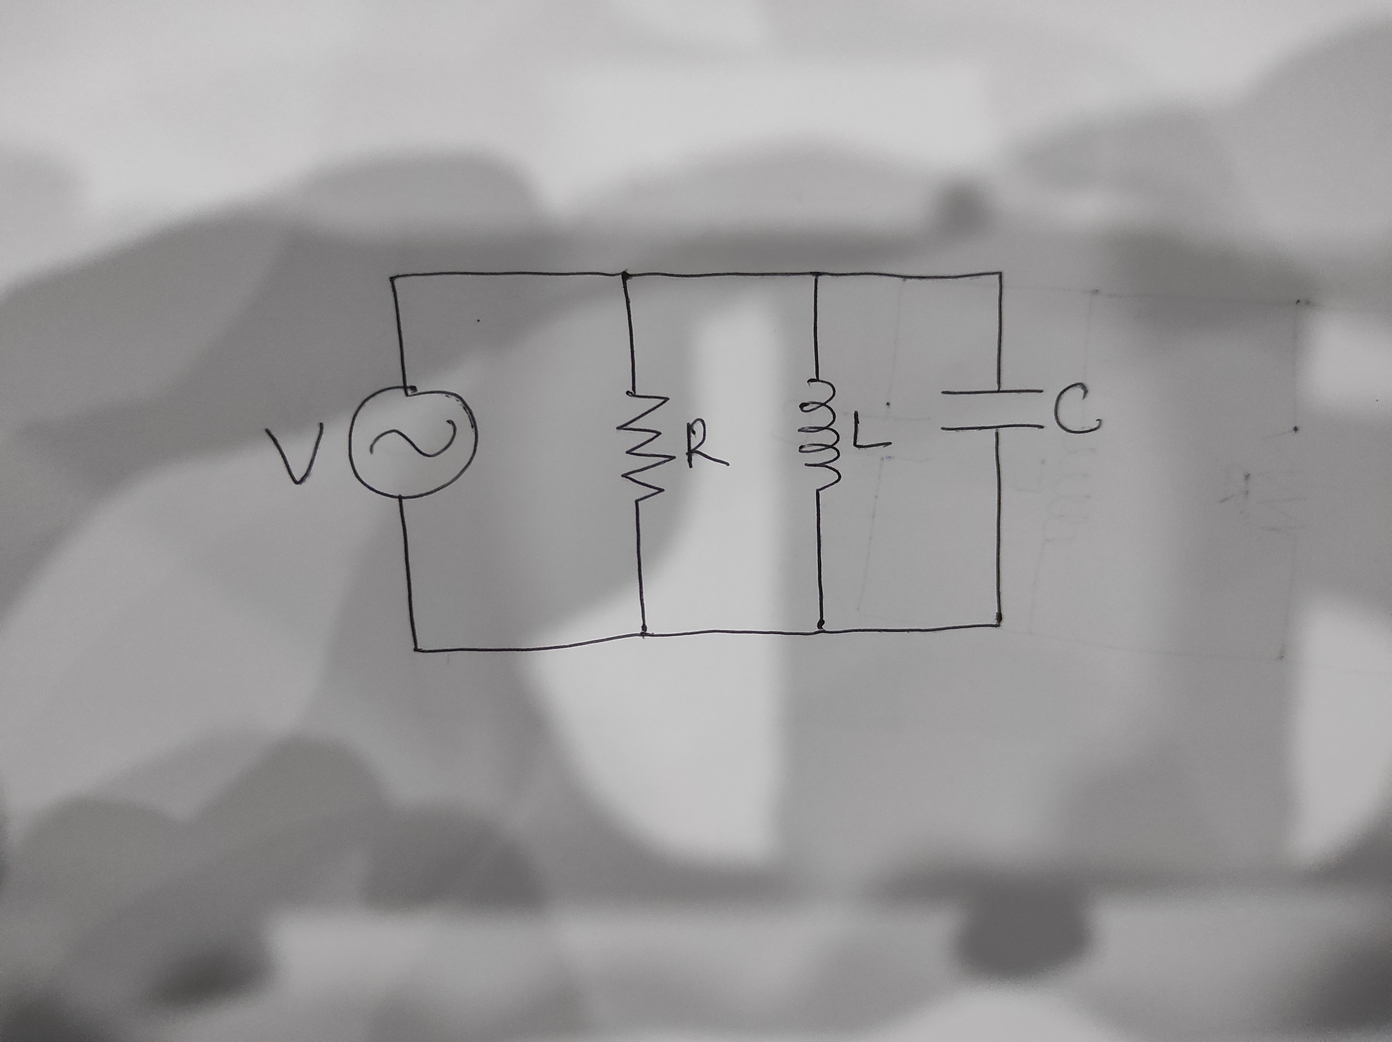capacitor.unpolarized: (935, 384, 1048, 437)
inductor: (797, 372, 843, 493)
junction: (630, 620, 659, 649), (404, 635, 431, 663), (807, 616, 831, 640), (614, 264, 637, 285), (807, 264, 827, 283), (989, 612, 1007, 633), (990, 265, 1009, 283), (383, 269, 402, 287)
resistor: (608, 387, 678, 507)
text: (262, 418, 326, 487), (1051, 379, 1104, 435), (681, 416, 733, 470), (849, 406, 896, 451)
voltage.dc_ac: (343, 383, 482, 500)
